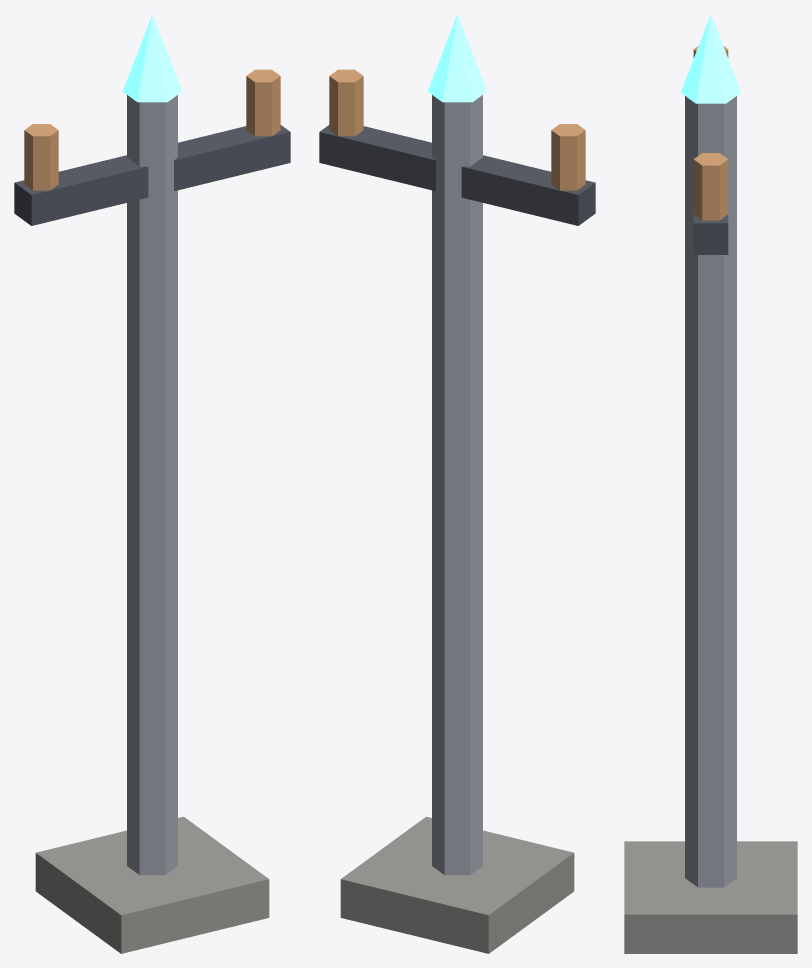
The model's file is poste_energia.glb.
3 views of the same model, side by side, from view 1: azimuth 30°, elevation 25°; view 2: azimuth 150°, elevation 25°; view 3: azimuth 270°, elevation 25° (orthographic).
Visible parts, largest first — view 1: poste_energia; view 2: poste_energia; view 3: poste_energia.
Boxes of the visible parts, x1,y1,x2,y2 form: poste_energia: (14, 14, 290, 953); poste_energia: (319, 14, 595, 953); poste_energia: (624, 14, 797, 953).
Bounding box in the file's own units: 0.7 × 2.3 × 0.4.
